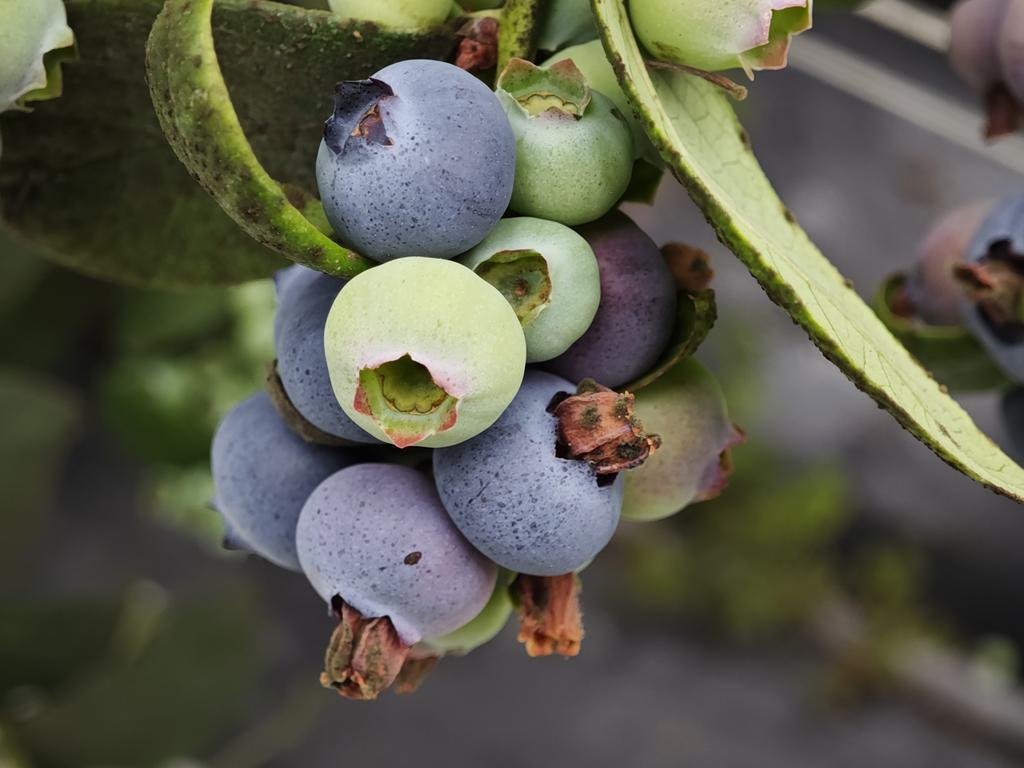RipeBlueBerry: (321, 60, 518, 256)
UnripeBlueBerry: (328, 256, 523, 448)
